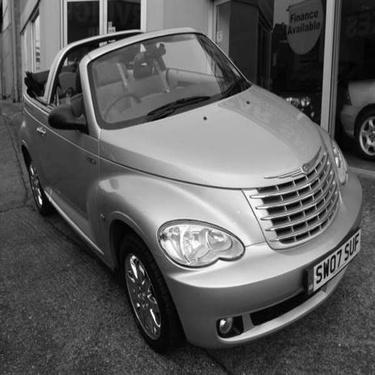car: (6, 20, 365, 358), (332, 65, 373, 167)
